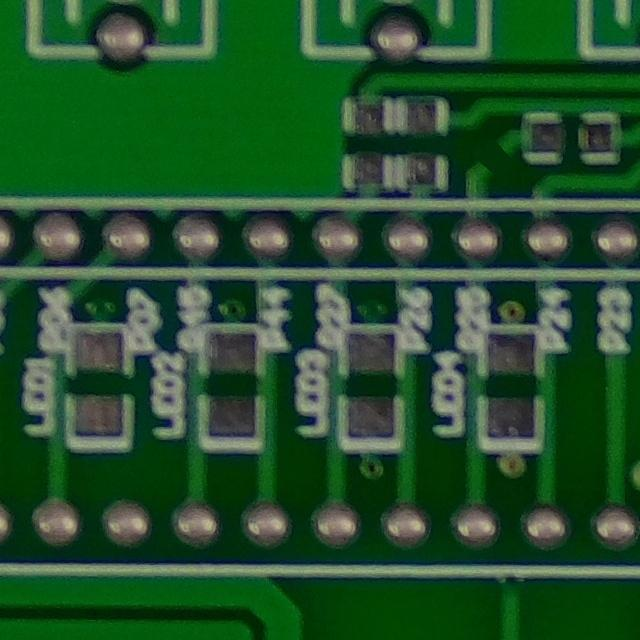open_circuit: (465, 134, 517, 180)
